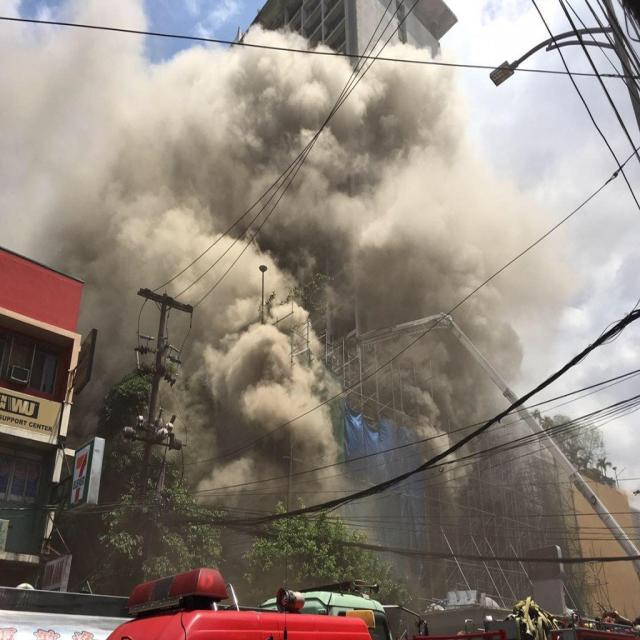Smoke: (119, 82, 596, 490)
